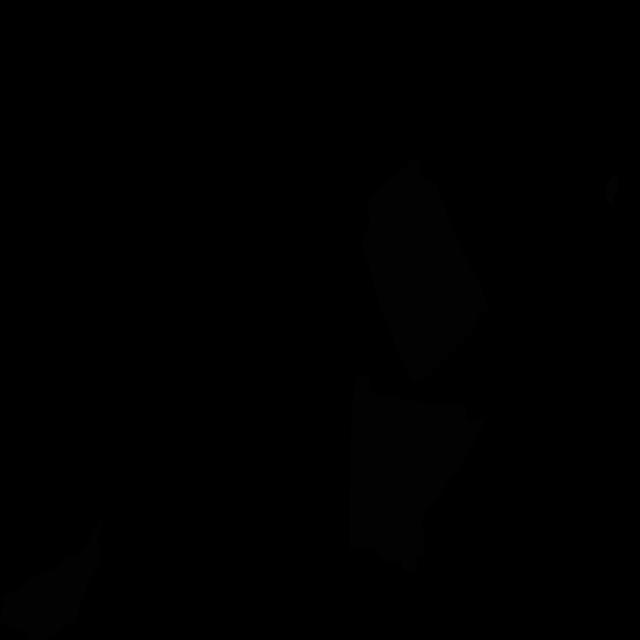cardboard: (362, 158, 489, 383), (349, 375, 485, 572), (0, 516, 103, 640)
metal: (605, 175, 620, 204)
